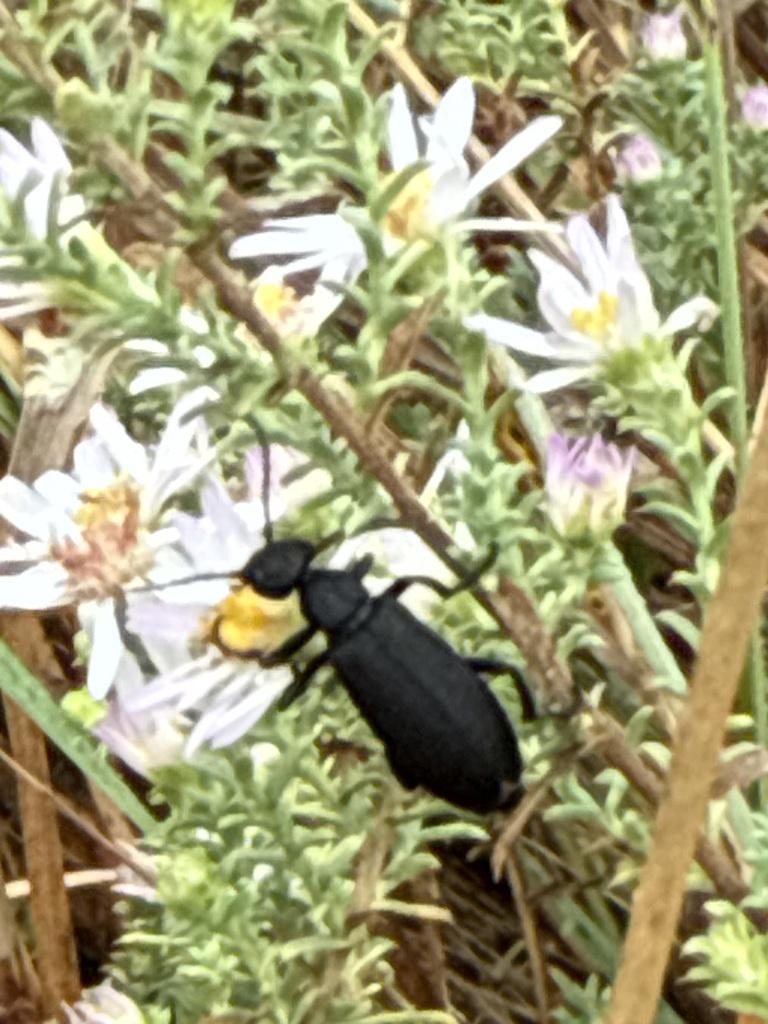blister_beetle: (124, 386, 593, 871)
